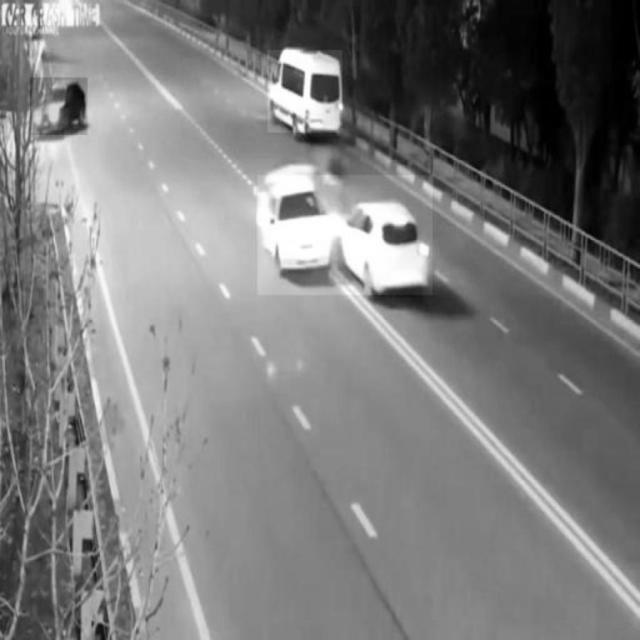accident: (258, 175, 433, 295)
vehicle: (269, 50, 343, 133), (31, 78, 88, 135)
